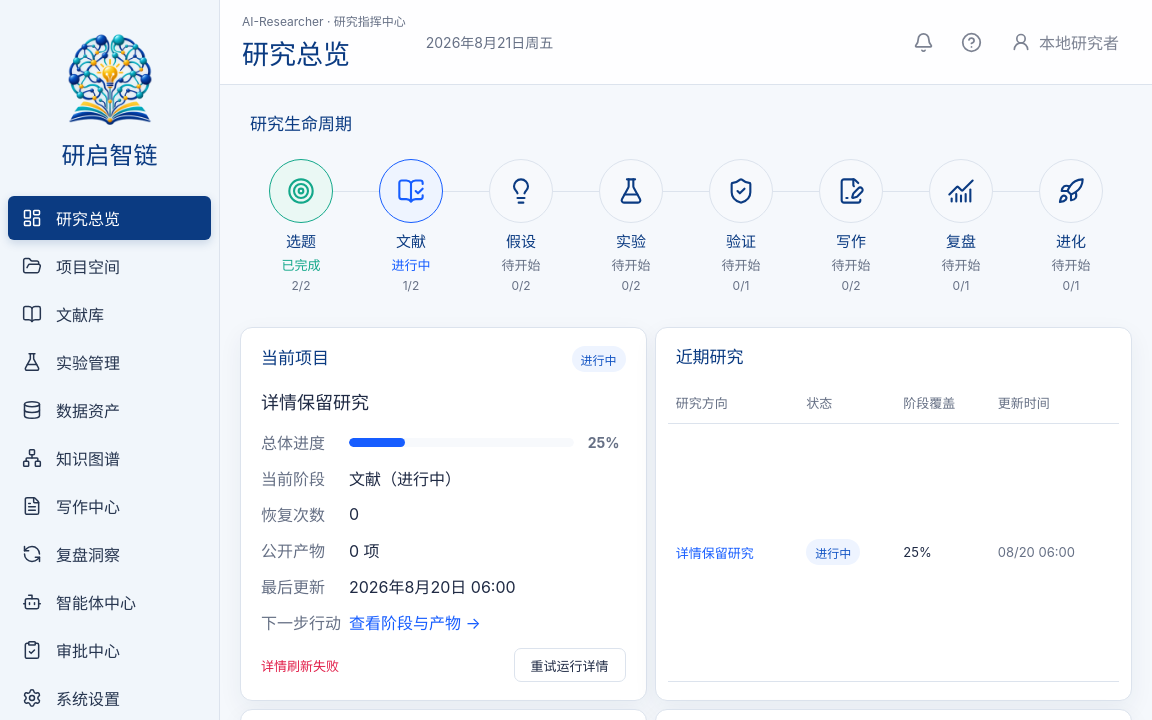
Test case: retains coherent detail during background failure and retries it in place
The image size is (1152, 720).
Expected: the text "25%" is shown, [588,434,619,450]
Expected: the message shows "详情刷新失败", [261,658,339,674]
Click the button "重试运行详情" at (570, 665), box [514,648,626,682]
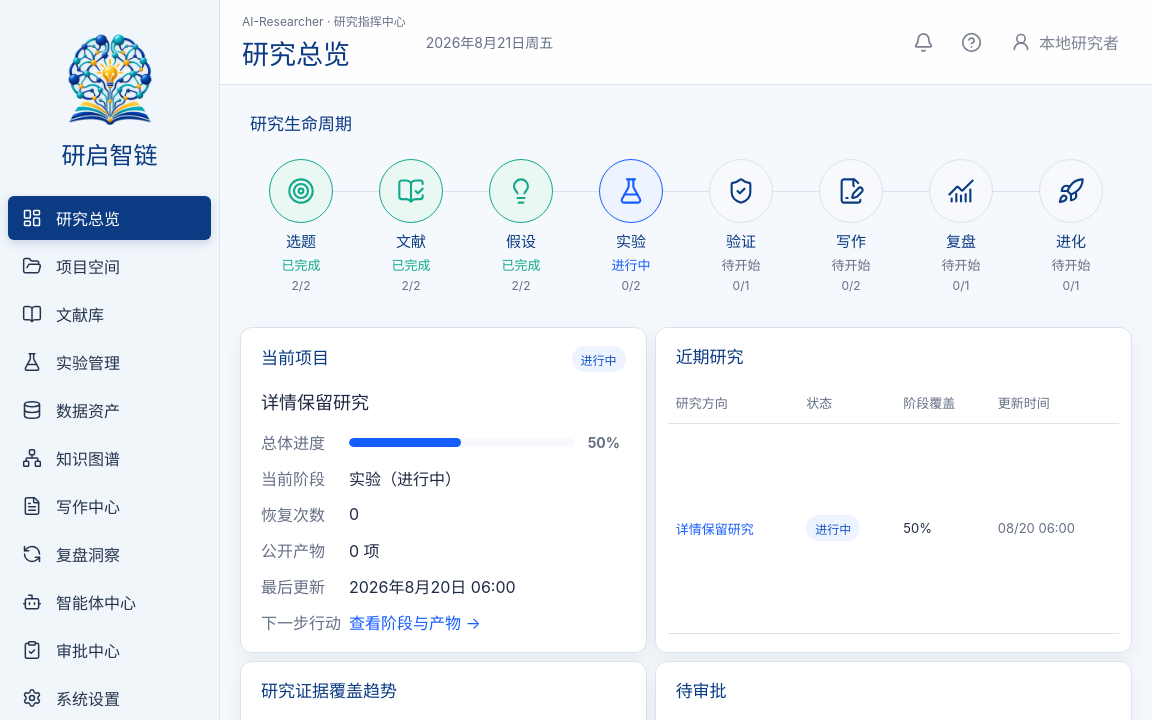
Result: the text "50%" is shown at [588,434,626,450]
Result: the message "详情刷新失败 重试运行详情" is gone
